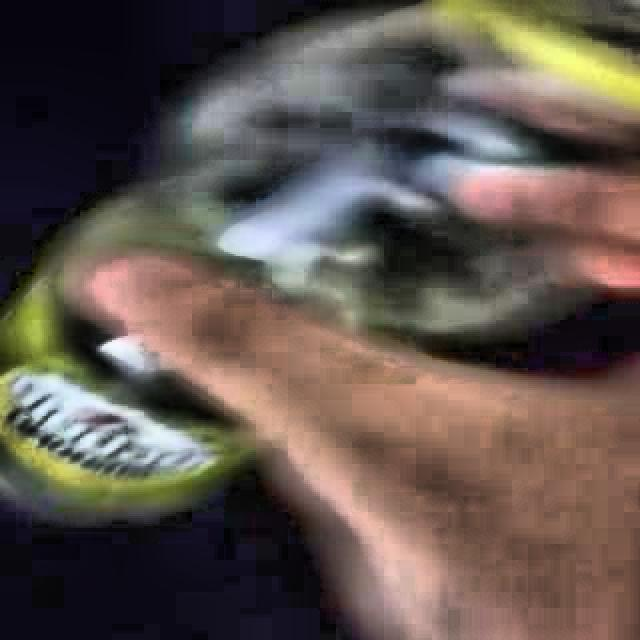plastic: (0, 0, 640, 515)
